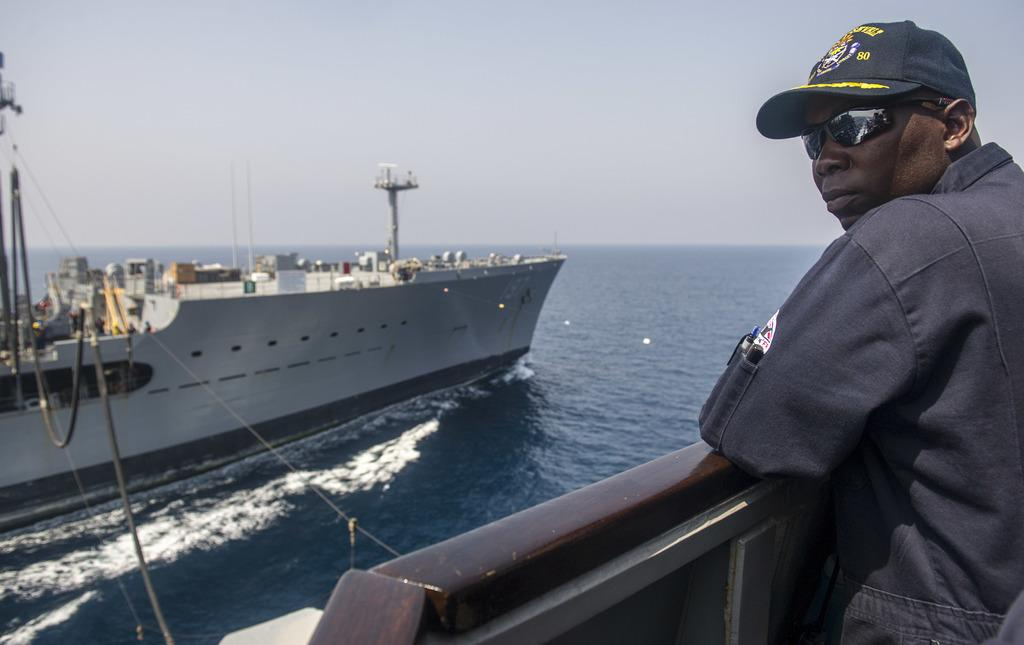Hat: (754, 17, 976, 139)
